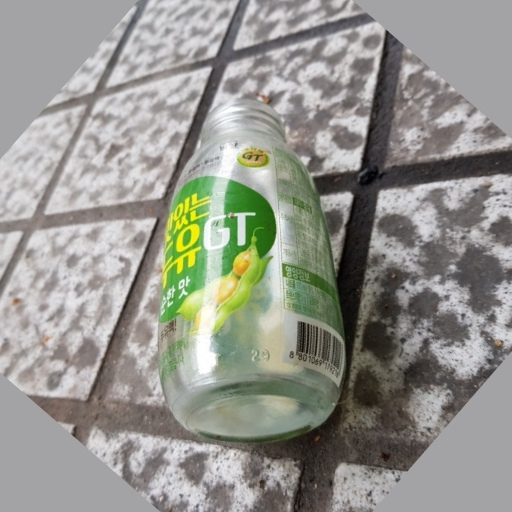Glass_4: (157, 102, 344, 440)
